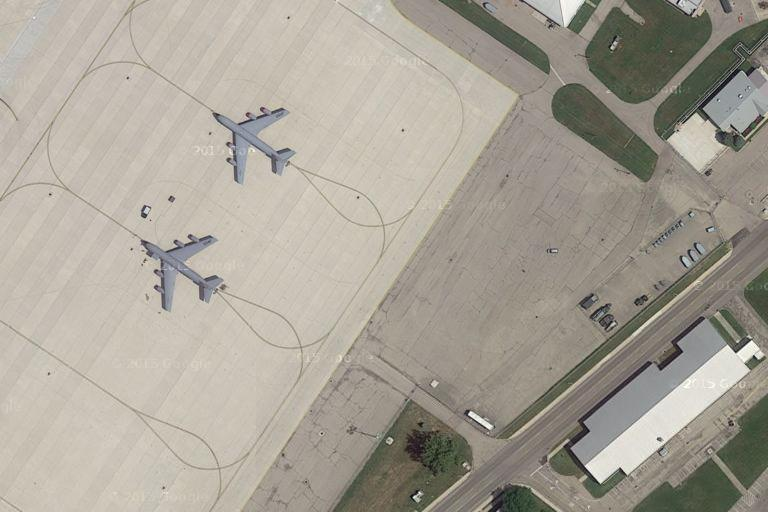KC-135: (206, 100, 300, 180), (138, 234, 227, 310)
